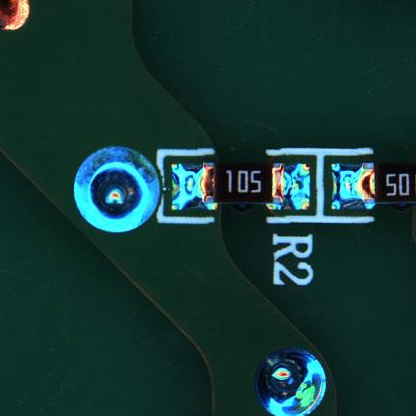spot: (68, 142, 165, 236)
